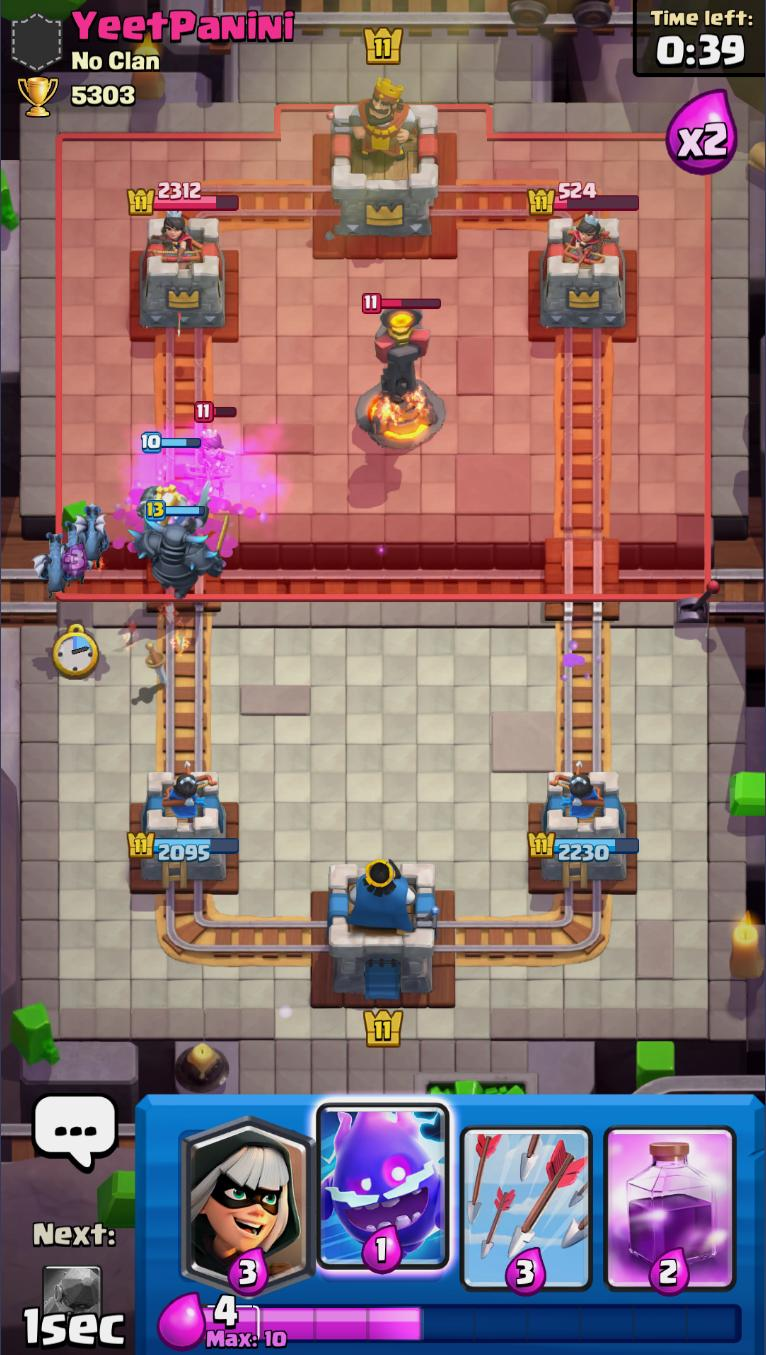ArrowDeck: (456, 1094, 598, 1295)
BanditDeck: (167, 1095, 310, 1296)
BattleRamNext: (41, 1264, 103, 1343)
ElectroSpiritDeck: (311, 1095, 455, 1296)
Elixir: (203, 1295, 744, 1350)
EnemyTower: (533, 214, 631, 331), (136, 214, 227, 331)
KingTower: (326, 80, 443, 243)
MyKingTower: (326, 858, 440, 1000)
MyMinion: (34, 535, 76, 597), (74, 502, 112, 568), (59, 522, 87, 583)
MyPekka: (355, 292, 445, 452), (129, 500, 230, 599)
MyPrincessTower: (126, 768, 240, 886), (528, 770, 640, 886)
MyPrincessTowerHP: (126, 830, 239, 862), (527, 832, 640, 862)
MyRoyaleGhost: (138, 431, 211, 534)
Princess: (186, 402, 237, 483)
PrincessTower: (150, 214, 205, 270), (552, 213, 607, 267)
RageDeck: (598, 1094, 742, 1296)
TowerPrincessHP: (527, 182, 640, 216), (127, 182, 240, 216)
